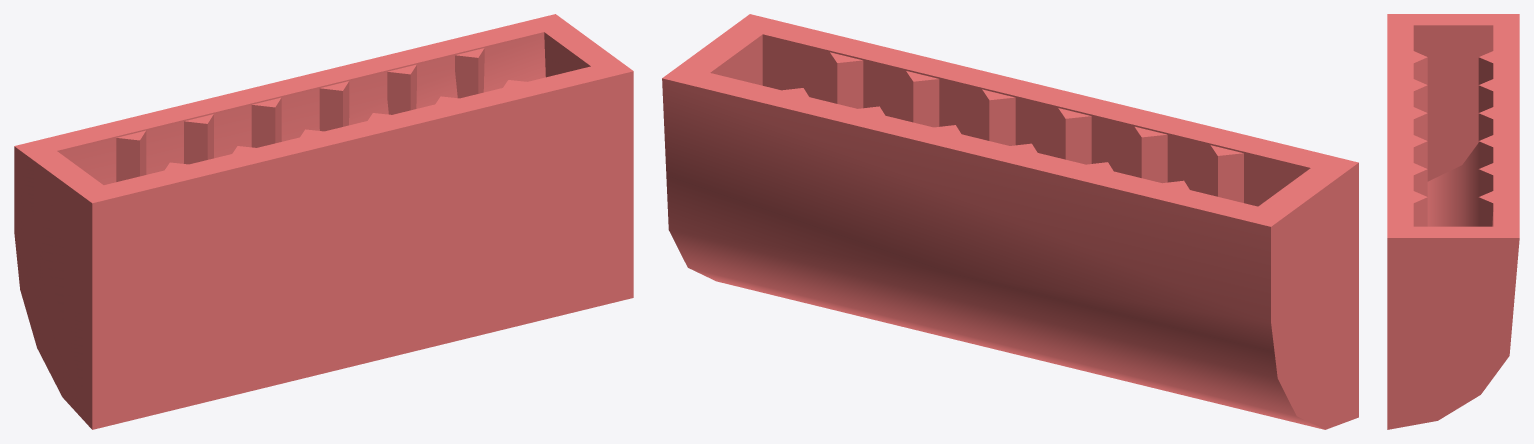
Rendered from 10314_mid.glb.
3 views of the same model, side by side, from view 1: azimuth 30°, elevation 25°; view 2: azimuth 150°, elevation 25°; view 3: azimuth 270°, elevation 25° (orthographic). The views are drawn at different scales.
Visible parts, largest first — view 1: LDrawPart; view 2: LDrawPart; view 3: LDrawPart.
Part boxes in pixels (<box>): LDrawPart: <box>14,14,633,429</box>; LDrawPart: <box>662,14,1358,429</box>; LDrawPart: <box>1387,14,1519,429</box>.
Bounding box in the file's own units: 0.56 × 0.224 × 0.14.
